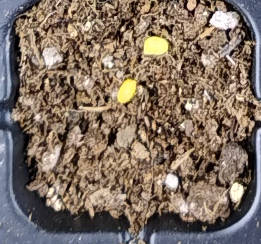pepper seed: (49, 26, 187, 130), (58, 8, 228, 64)
